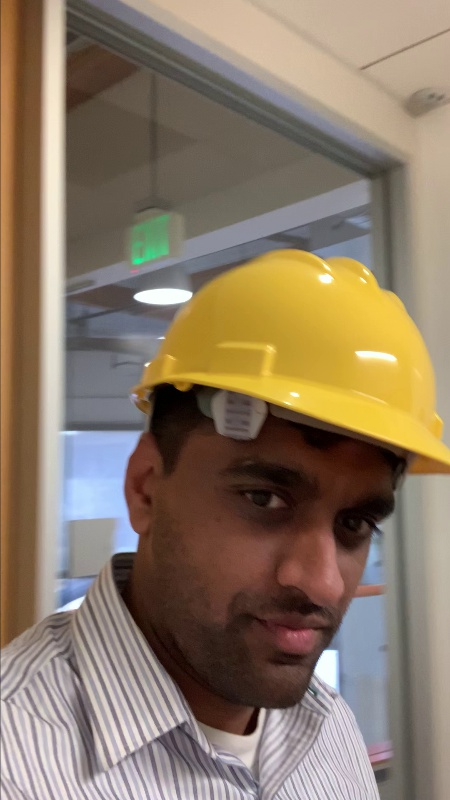helmet: (131, 237, 450, 474)
